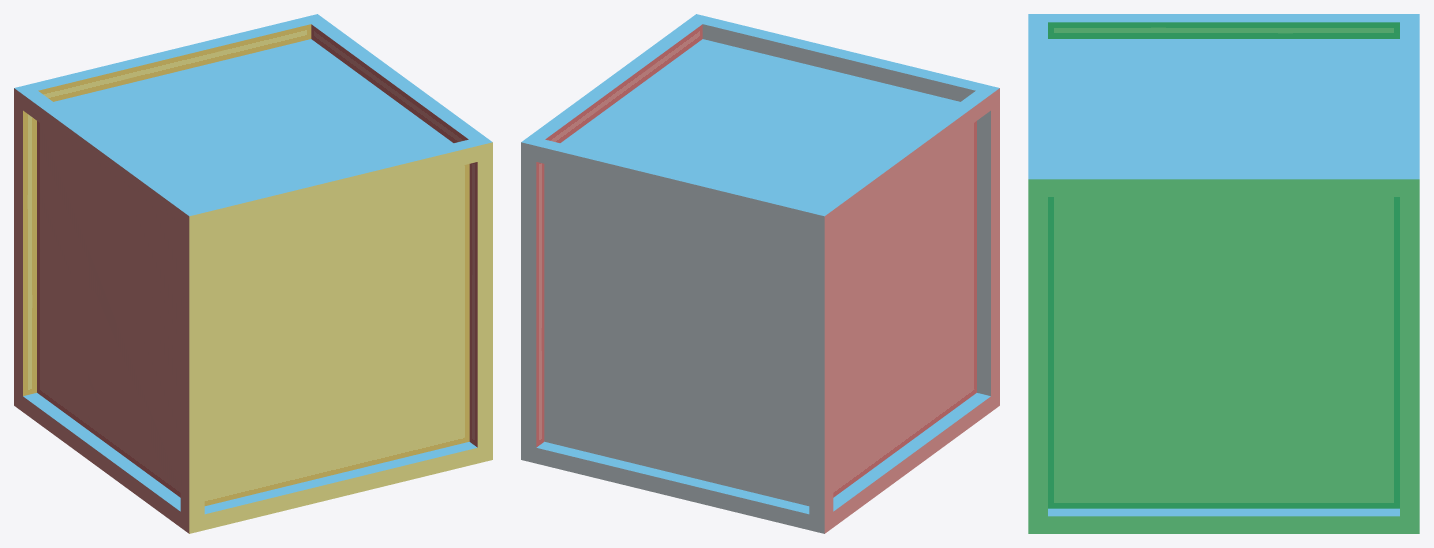
The picture shows the model from 3 angles, left to right: view 1: azimuth 30°, elevation 25°; view 2: azimuth 150°, elevation 25°; view 3: azimuth 270°, elevation 25°; orthographic projection. The views are drawn at different scales.
Visible parts, largest first — view 1: group; view 2: group; view 3: group.
Boxes of the visible parts, box(x1,y1,x2,y2) form: group: box(14, 14, 492, 533); group: box(521, 14, 999, 533); group: box(1028, 14, 1419, 533).
Bounding box in the file's own units: 4 × 4 × 4.
1 material, 1 textured.
